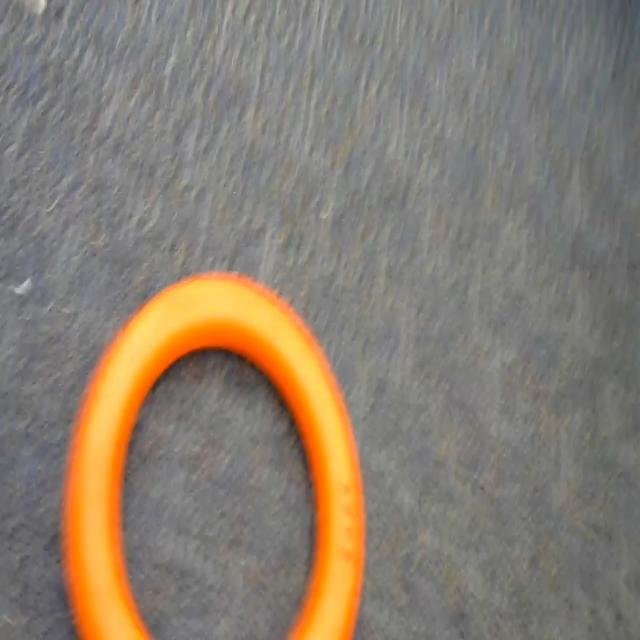note: (48, 257, 382, 640)
